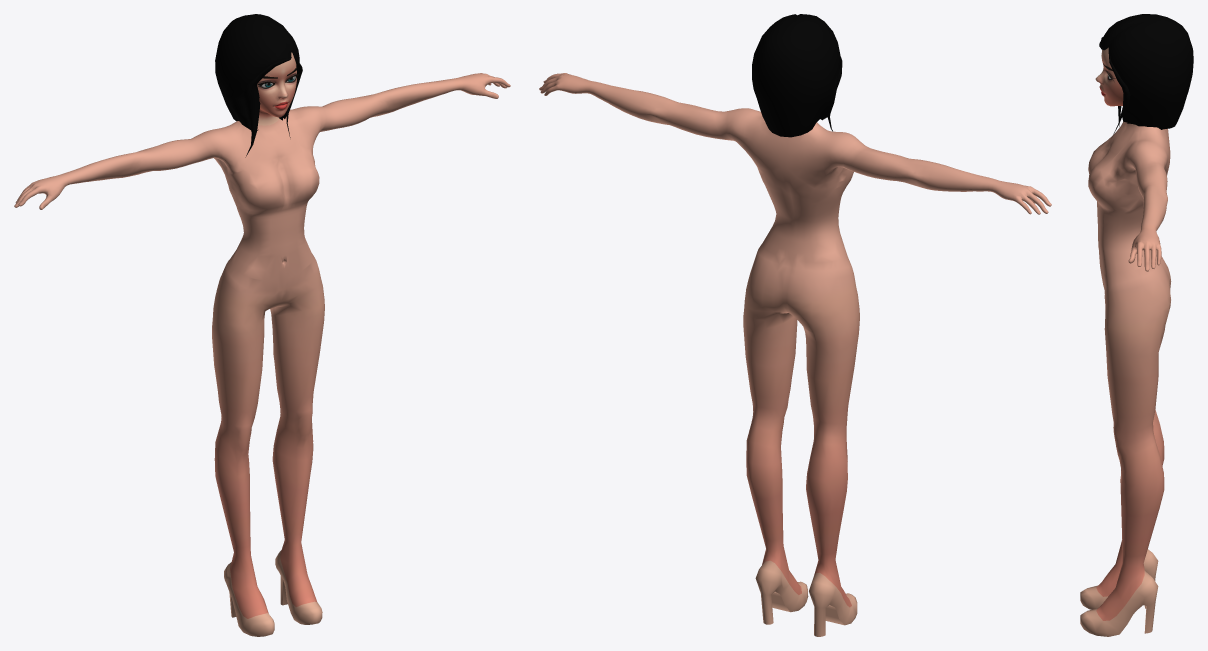
Rendered from Body.fbx.
3 views of the same model, side by side, from view 1: azimuth 30°, elevation 25°; view 2: azimuth 150°, elevation 25°; view 3: azimuth 270°, elevation 25° (orthographic). The views are drawn at different scales.
Visible parts, largest first — view 1: body, Hair; view 2: body, Hair; view 3: body, Hair.
Boxes of the visible parts, left/top/right/bottom form: body: left=14, top=52, right=510, bottom=636; Hair: left=215, top=14, right=302, bottom=157; body: left=539, top=73, right=1051, bottom=636; Hair: left=752, top=14, right=842, bottom=137; body: left=1080, top=47, right=1171, bottom=636; Hair: left=1099, top=14, right=1193, bottom=134.
Size of the model in its own units: 125 by 144 by 24.65.
